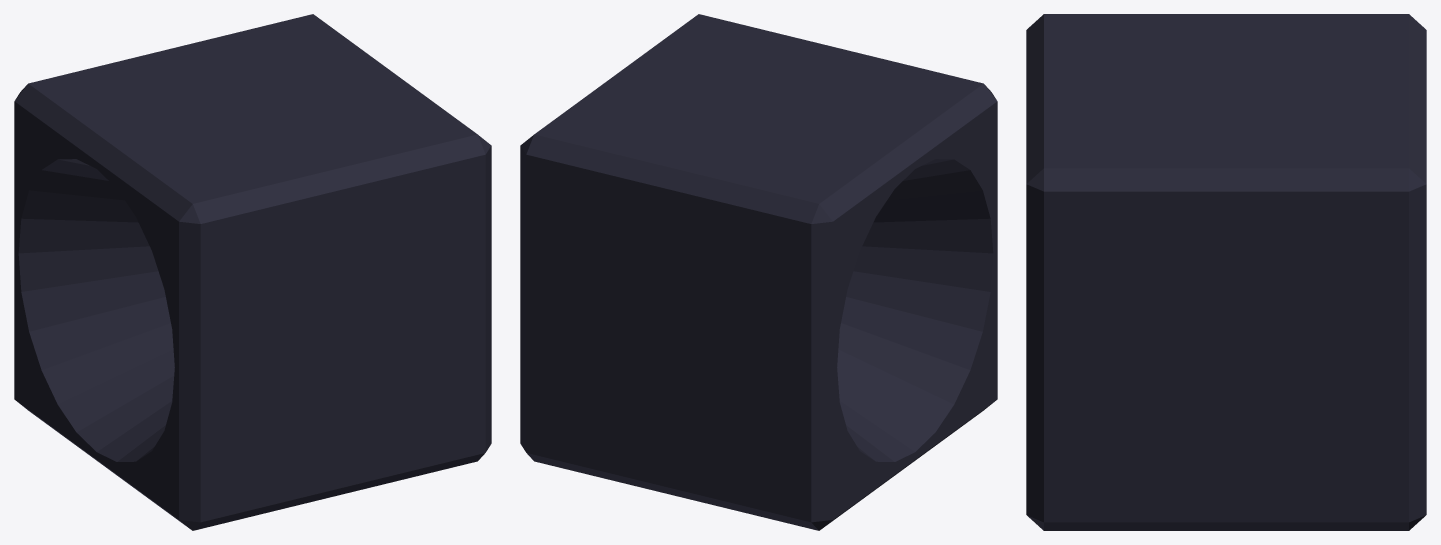
File: Speaker.fbx
The picture shows the model from 3 angles, left to right: view 1: azimuth 30°, elevation 25°; view 2: azimuth 150°, elevation 25°; view 3: azimuth 270°, elevation 25°; orthographic projection. The views are drawn at different scales.
Visible parts, largest first — view 1: Cabinet; view 2: Cabinet; view 3: Cabinet.
Boxes of the visible parts, x1,y1,x2,y2 form: Cabinet: (14,14,491,530); Cabinet: (520,14,997,530); Cabinet: (1026,14,1426,530).
Bounding box in the file's own units: 200 × 200 × 200.
